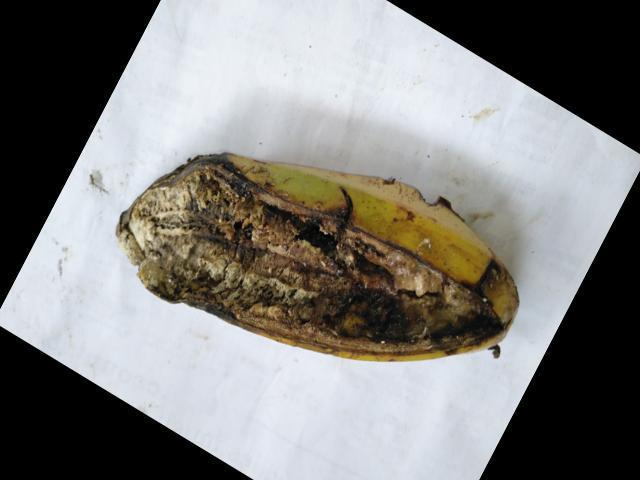rotten: (101, 140, 517, 370)
